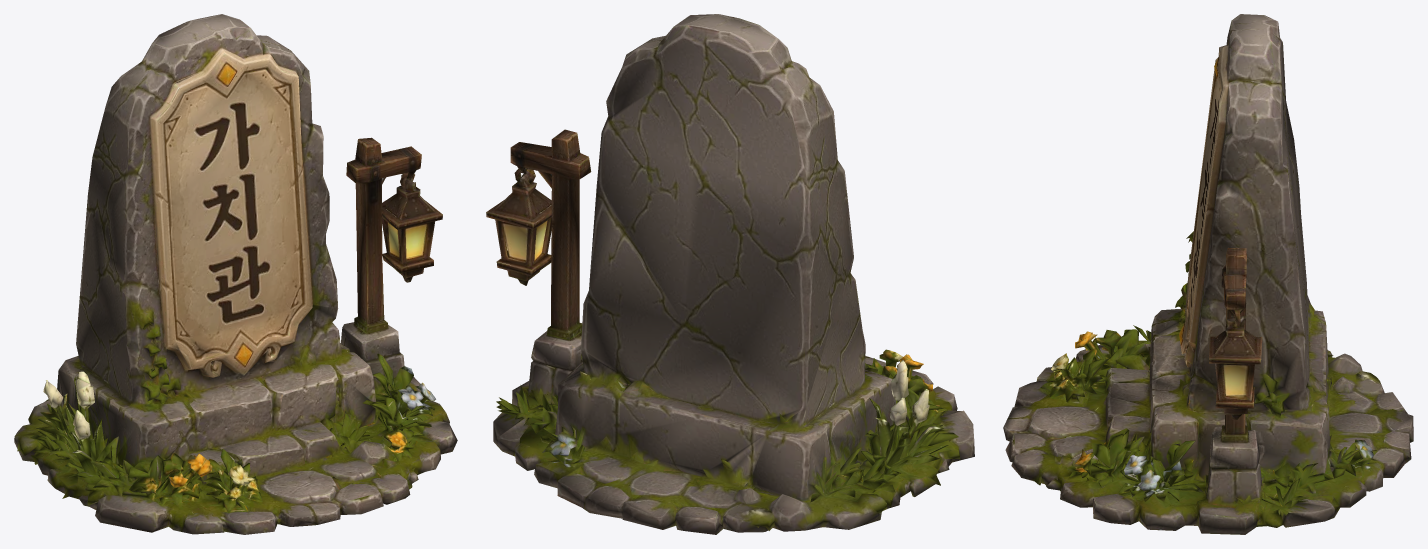
The model's file is life-values.glb.
3 views of the same model, side by side, from view 1: azimuth 30°, elevation 25°; view 2: azimuth 150°, elevation 25°; view 3: azimuth 270°, elevation 25° (orthographic). The views are drawn at different scales.
Visible parts, largest first — view 1: Mesh1.0; view 2: Mesh1.0; view 3: Mesh1.0.
Part boxes in pixels (<box>): Mesh1.0: <box>14,14,457,534</box>; Mesh1.0: <box>486,14,974,534</box>; Mesh1.0: <box>1003,14,1413,534</box>.
Size of the model in its own units: 1.89 by 1.89 by 1.72.
1 material, 1 textured.
